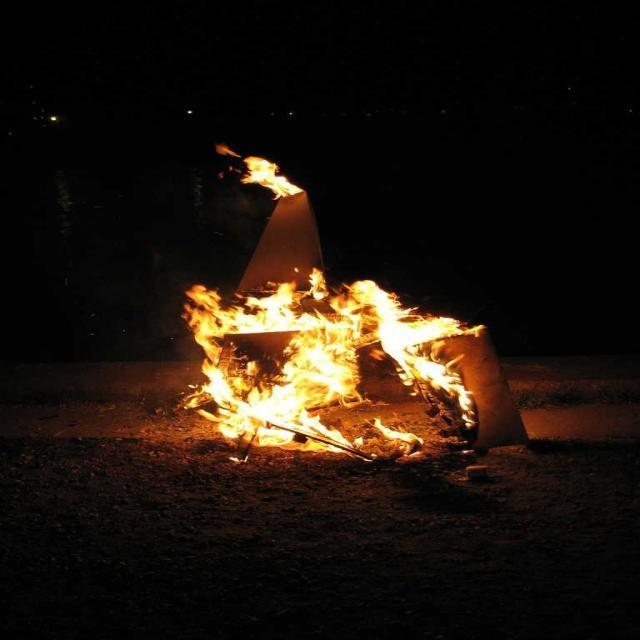Fire: (207, 339, 361, 419), (192, 300, 378, 325), (383, 312, 450, 376), (246, 162, 302, 197)
